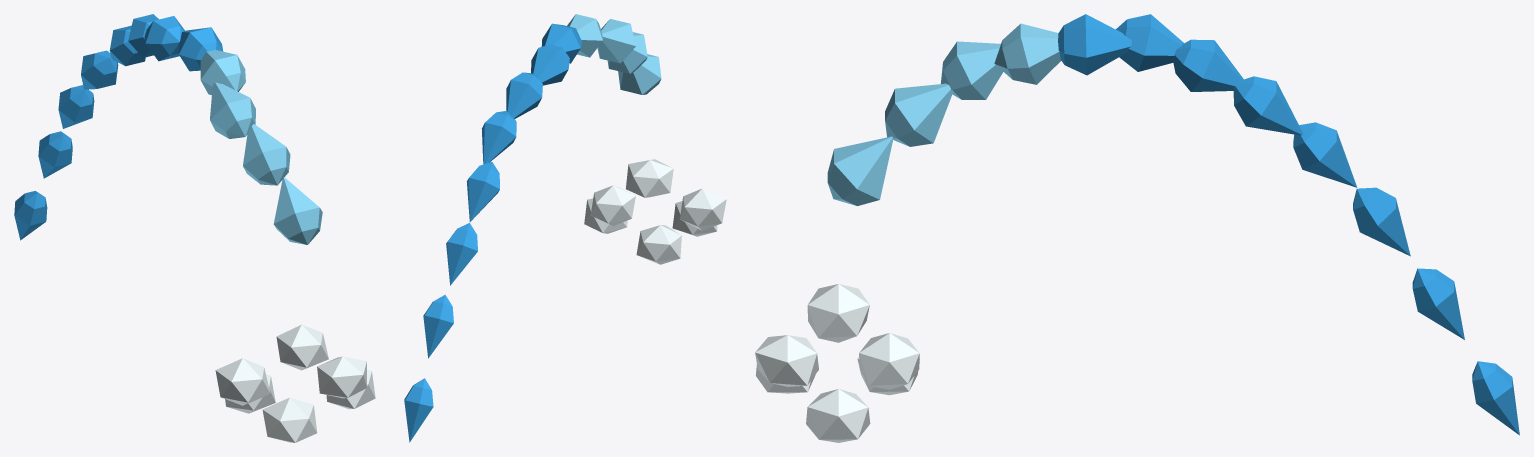
File: fx_water_fire_hose.glb
3 views of the same model, side by side, from view 1: azimuth 30°, elevation 25°; view 2: azimuth 150°, elevation 25°; view 3: azimuth 270°, elevation 25° (orthographic). The views are drawn at different scales.
Parts seen in each view (by area): view 1: fx_water_fire_hose_water_azure, fx_water_fire_hose_water_foam, fx_water_fire_hose_water_light; view 2: fx_water_fire_hose_water_azure, fx_water_fire_hose_water_foam, fx_water_fire_hose_water_light; view 3: fx_water_fire_hose_water_azure, fx_water_fire_hose_water_light, fx_water_fire_hose_water_foam.
Boxes of the visible parts, <box> form: fx_water_fire_hose_water_azure: <box>14,14,223,240</box>; fx_water_fire_hose_water_foam: <box>215,324,375,442</box>; fx_water_fire_hose_water_light: <box>200,50,322,244</box>; fx_water_fire_hose_water_azure: <box>404,23,581,442</box>; fx_water_fire_hose_water_foam: <box>584,159,726,264</box>; fx_water_fire_hose_water_light: <box>567,14,661,94</box>; fx_water_fire_hose_water_azure: <box>1058,14,1519,435</box>; fx_water_fire_hose_water_light: <box>827,23,1061,205</box>; fx_water_fire_hose_water_foam: <box>755,284,919,442</box>.
Bounding box in the file's own units: 0.5148 × 1.1 × 1.82.
